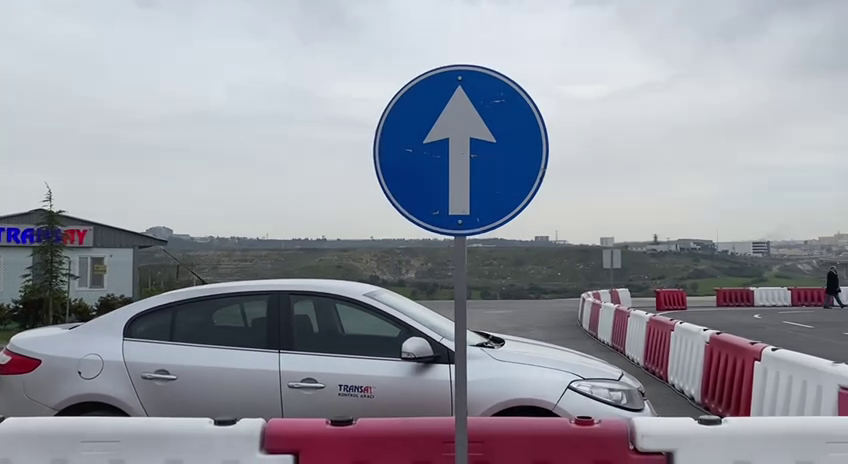forward: (364, 53, 554, 240)
